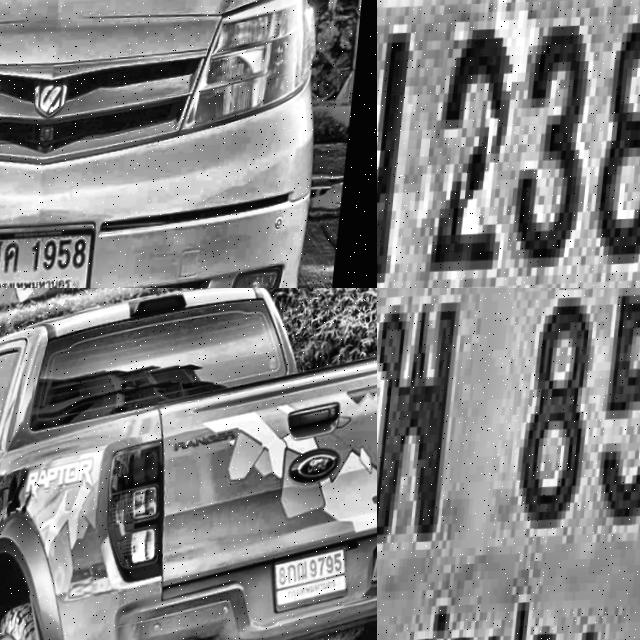license-plate: (377, 288, 640, 640), (377, 0, 640, 288), (275, 541, 359, 617), (0, 230, 108, 288)
